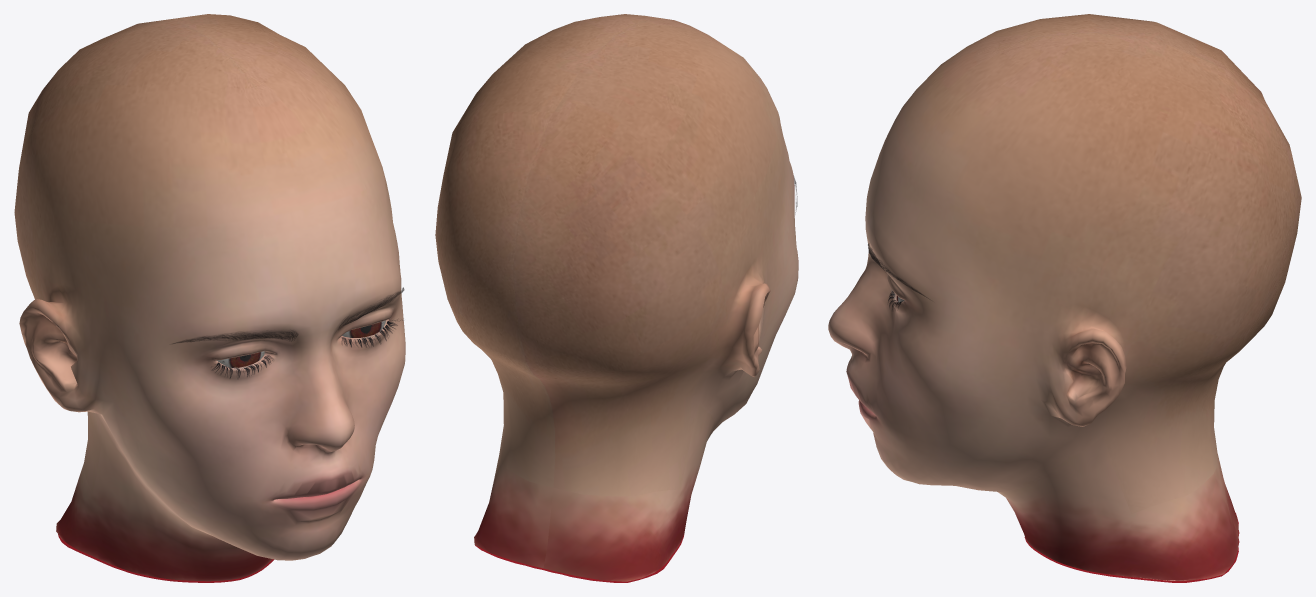
Rendered from daz_asian_head_base.glb.
3 views of the same model, side by side, from view 1: azimuth 30°, elevation 25°; view 2: azimuth 150°, elevation 25°; view 3: azimuth 270°, elevation 25° (orthographic). The views are drawn at different scales.
Parts seen in each view (by area): view 1: HeadSkin, Eyebrows, Eyes, Eyelashes, NeckCrossSection; view 2: HeadSkin, NeckCrossSection; view 3: HeadSkin.
Part boxes in pixels (box(x1,y1,x2,y2)): HeadSkin: box(14, 14, 405, 581); Eyebrows: box(172, 287, 404, 343); Eyes: box(217, 320, 385, 367); Eyelashes: box(212, 319, 403, 378); NeckCrossSection: box(58, 534, 274, 582); HeadSkin: box(435, 14, 798, 581); NeckCrossSection: box(475, 534, 684, 582); HeadSkin: box(828, 14, 1301, 580).
Bounding box in the file's own units: 0.1623 × 0.2338 × 0.1981.
8 materials, 7 textured.
